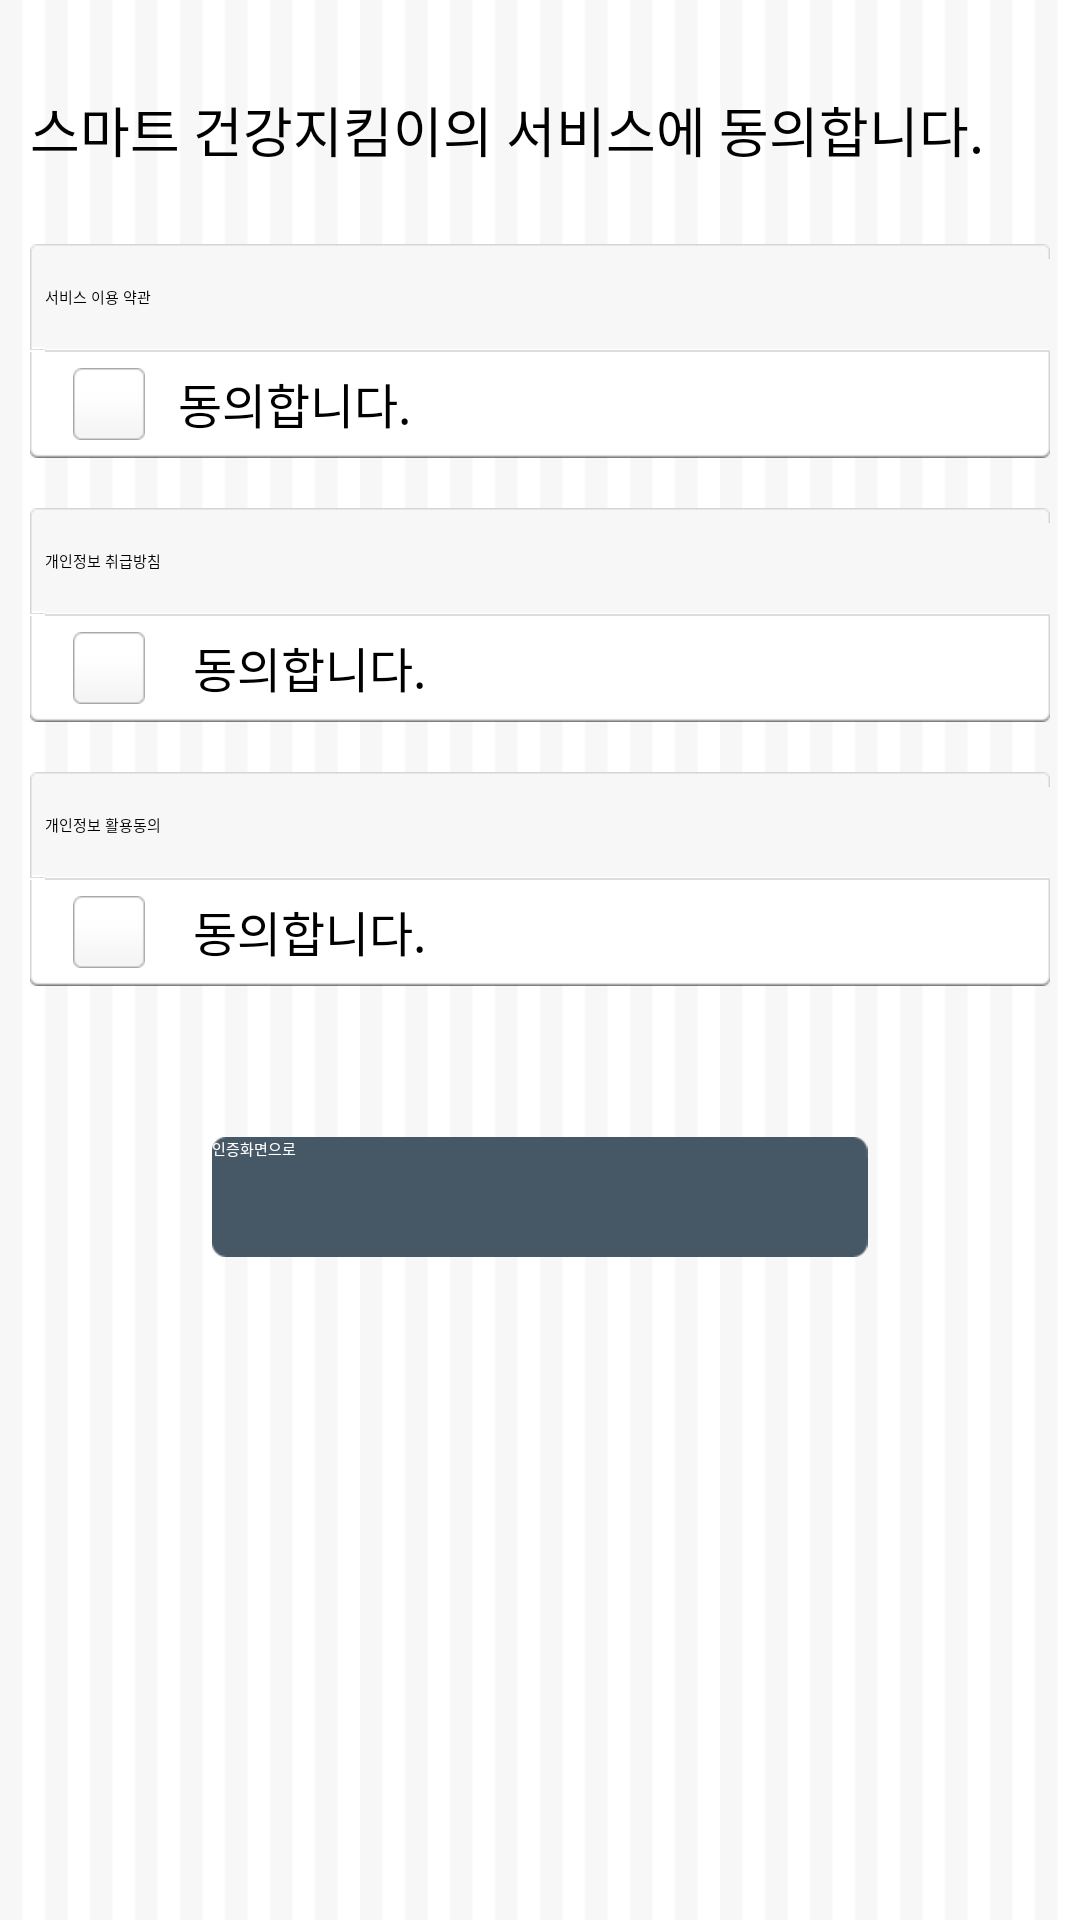

Icons on this 1080 × 1920 Android screen, each with its box as (x1, y1, x2, y2):
checkbox: (73, 368, 145, 440), (73, 632, 145, 704), (73, 896, 145, 968)
